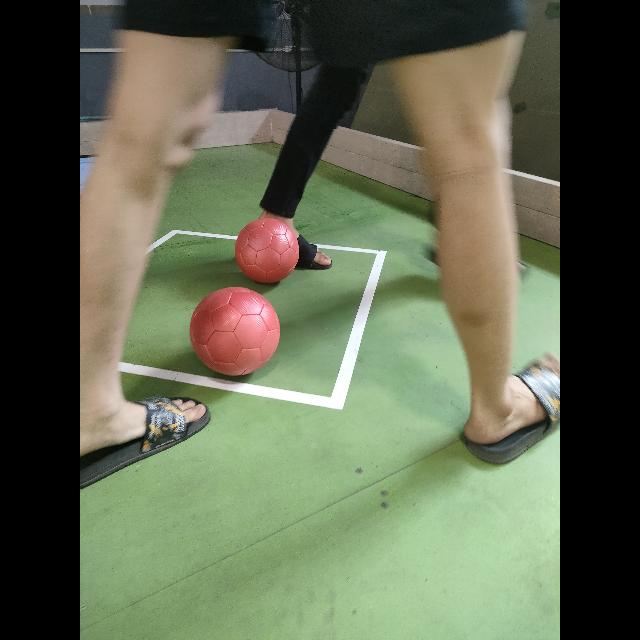R: (190, 288, 280, 374), (235, 216, 299, 282)
